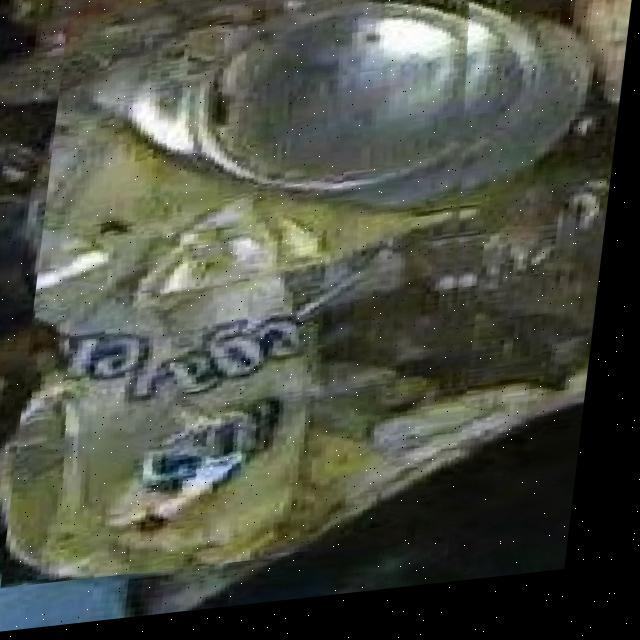litter: (14, 0, 514, 590)
